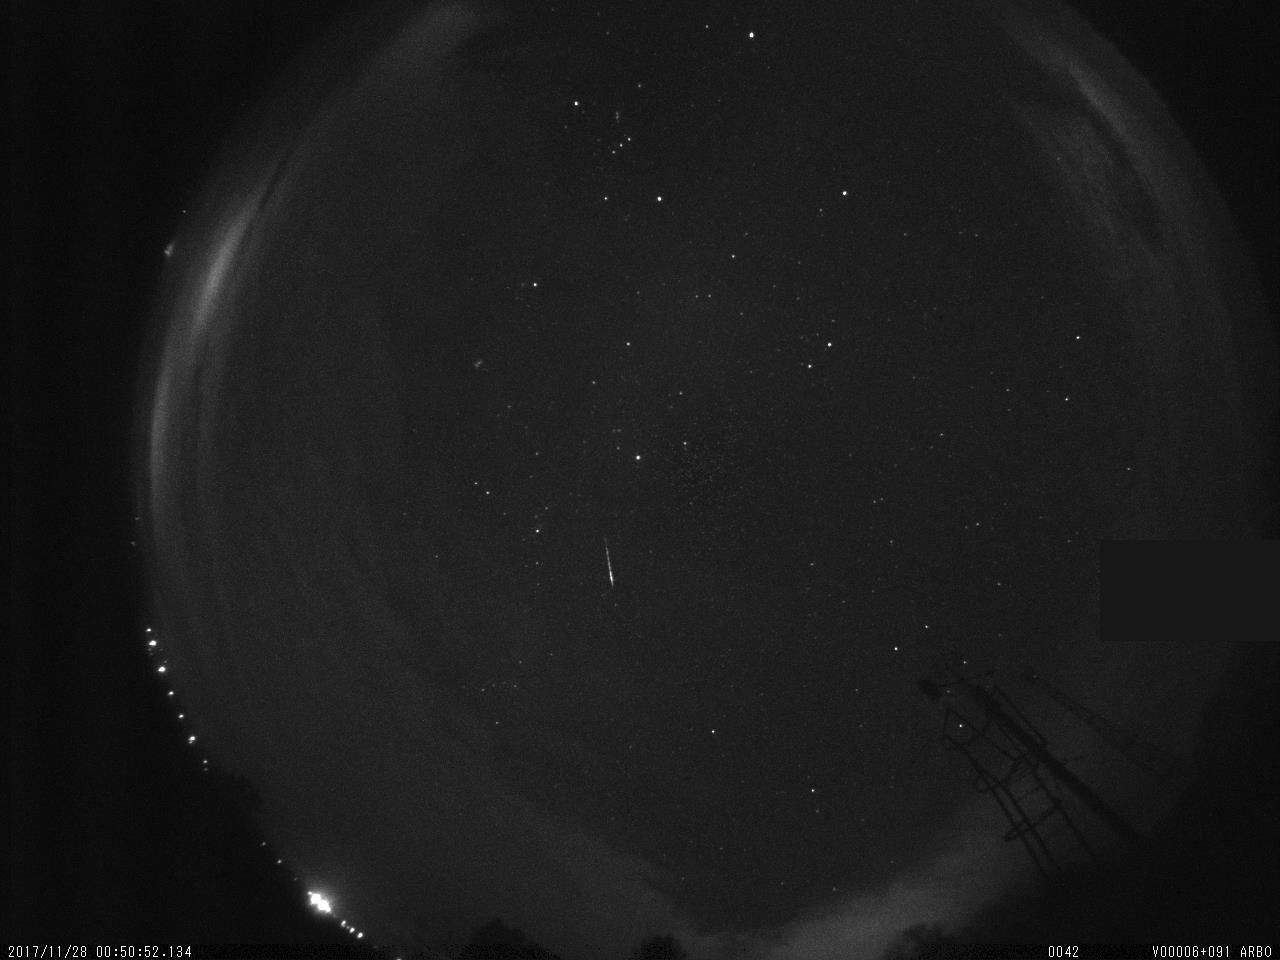Meteor: (599, 529, 619, 593)
